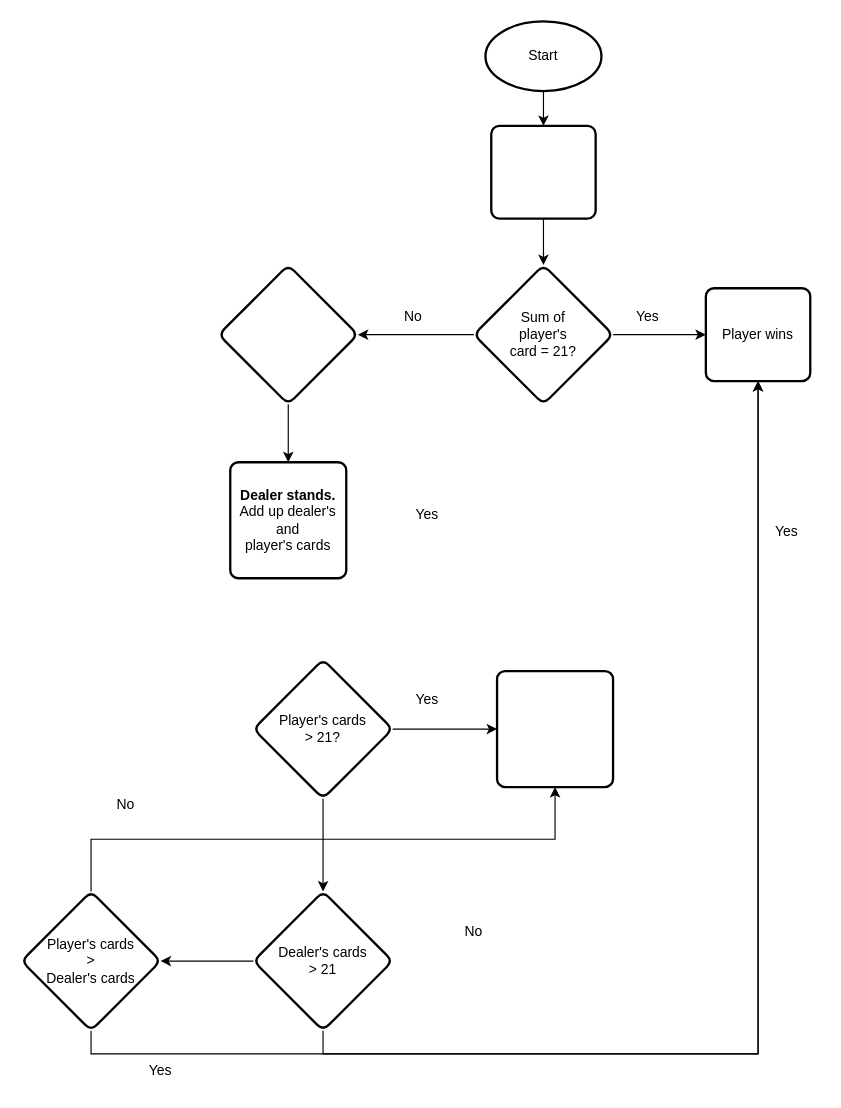
This 841x1108 diagram has some shape labels left out. The shapes that lost their labels are listed below. From the top down, each one's centre as x and y in pixels, then its label:
At point 543,171: "Generate two cards each, for player and dealer".
At point 287,334: "Sum of dealer's cards >= 17?".
At point 554,728: "Player loses".
